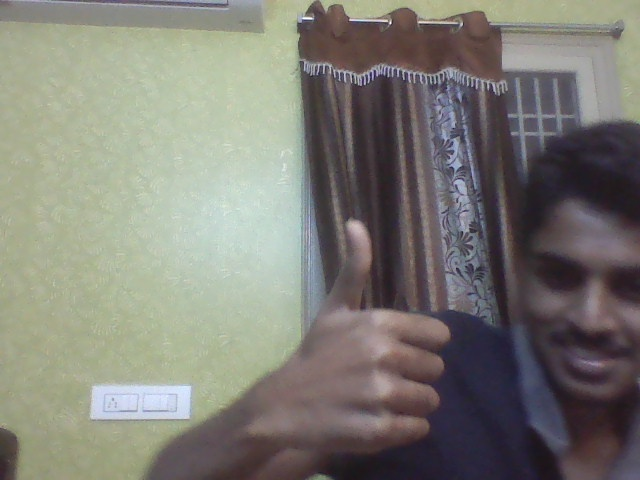thumbsup: (260, 216, 457, 453)
